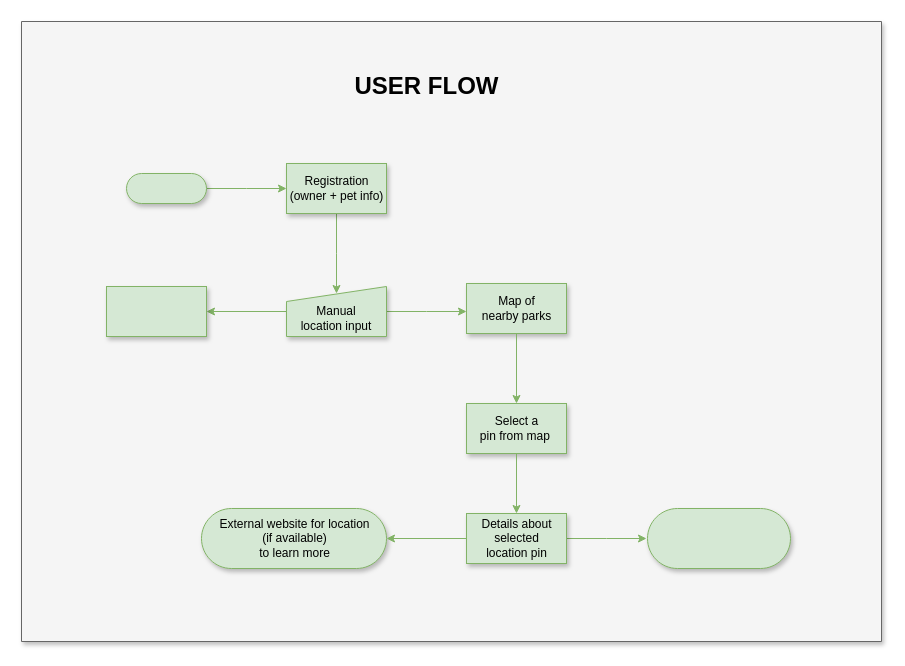
The diagram is 905 pixels wide and 666 high, and some of its shapes have lost their labels. The shapes that lost their labels are listed below. From the top down, each one's centre as x and y in pixels, then its label:
At [167,189]: "Start page".
At [157,313]: "Weather conditions in selected location".
At [719,540]: "External Google Maps link for direction".
